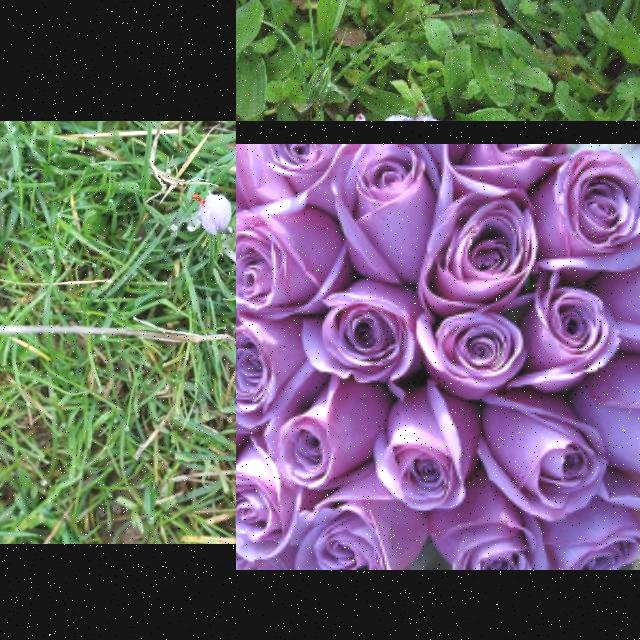flower: (194, 194, 232, 236)
